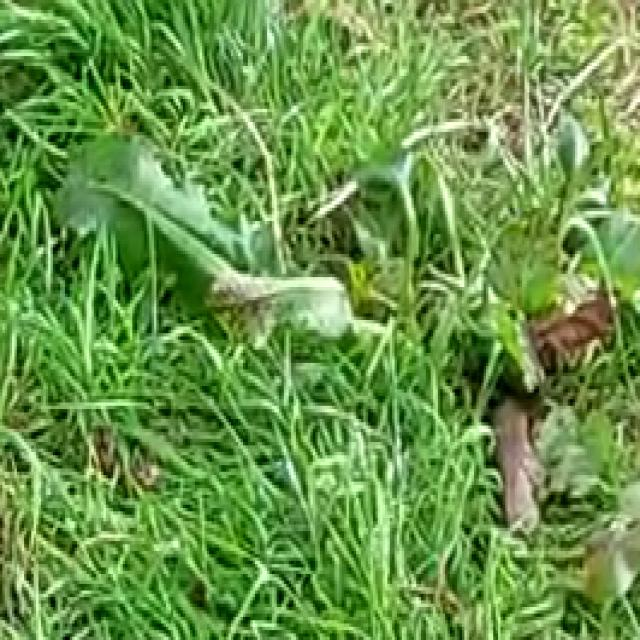organic waste: (31, 86, 460, 416)
